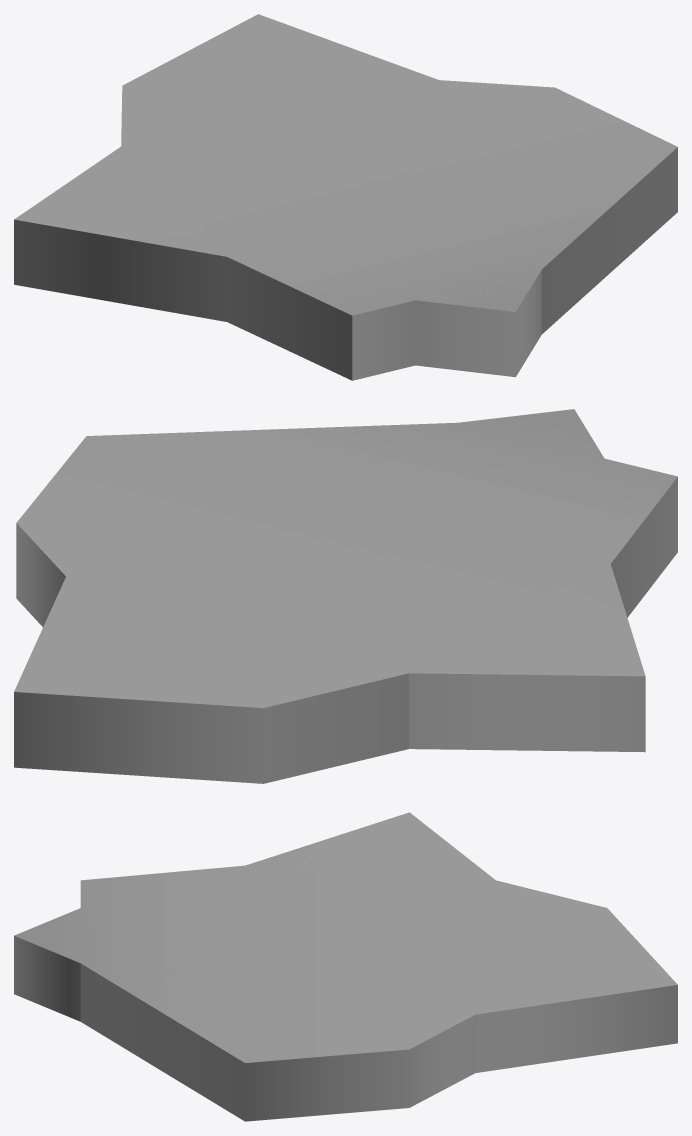
File: Rock 40.FBX
3 renders of one model, top to bottom at view 1: azimuth 30°, elevation 25°; view 2: azimuth 150°, elevation 25°; view 3: azimuth 270°, elevation 25°, orthographic. The views are drawn at different scales.
Visible parts, largest first — view 1: Box001; view 2: Box001; view 3: Box001.
Boxes of the visible parts, x1,y1,x2,y2 form: Box001: [14, 14, 677, 380]; Box001: [14, 409, 677, 783]; Box001: [14, 812, 677, 1121].
Size of the model in its own units: 44.7 by 4.86 by 50.01.
